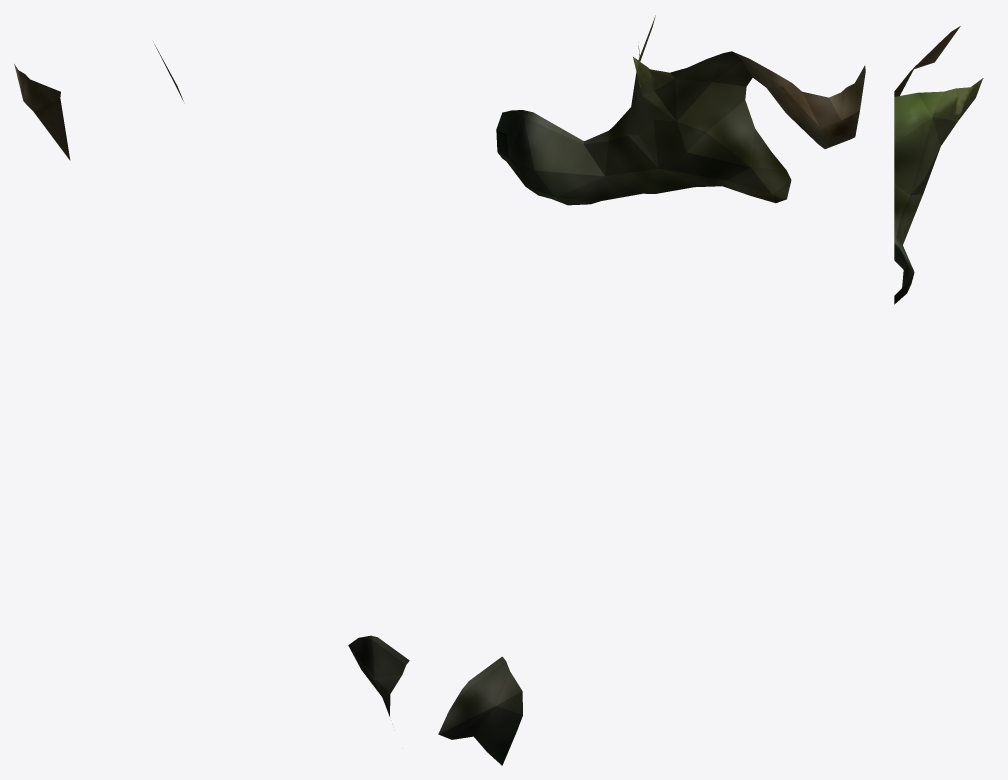
The picture shows the model from 3 angles, left to right: view 1: azimuth 30°, elevation 25°; view 2: azimuth 150°, elevation 25°; view 3: azimuth 270°, elevation 25°; orthographic projection. The views are drawn at different scales.
Size of the model in its own units: 0.3454 by 0.6957 by 0.1025.
1 material, 1 textured.
